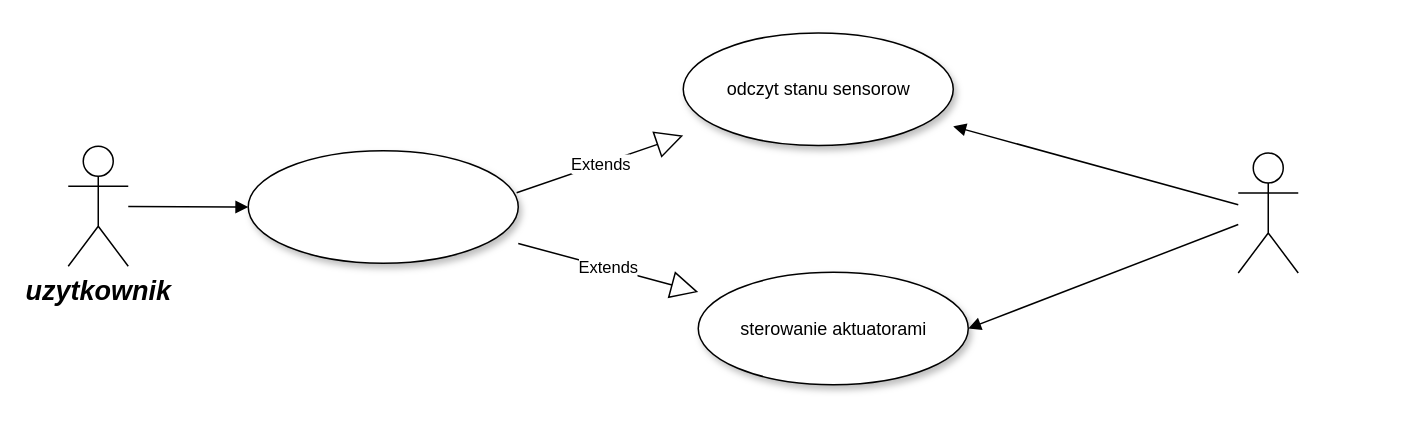
The diagram is 1421 pixels wide and 422 high, and some of its shapes have lost their labels. The shapes that lost their labels are listed below. From the top down, each one's centre as x and y in pixels, then its label:
At pixel 384 208: "autoryzacja w systemie".
At pixel 1267 212: "Adapter w systemie".
